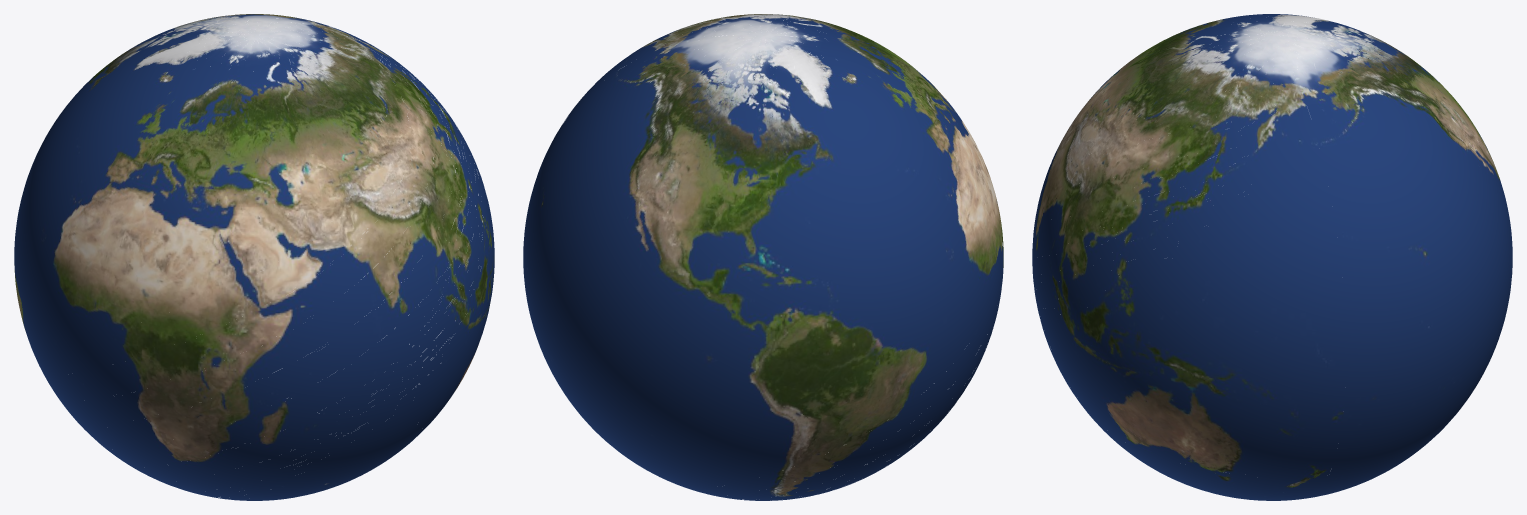
Rendered from earth-standard.glb.
The picture shows the model from 3 angles, left to right: view 1: azimuth 30°, elevation 25°; view 2: azimuth 150°, elevation 25°; view 3: azimuth 270°, elevation 25°; orthographic projection.
Parts seen in each view (by area): view 1: pSphere1_phong1_0 (×2); view 2: pSphere1_phong1_0 (×2); view 3: pSphere1_phong1_0 (×2).
Boxes of the visible parts, x1,y1,x2,y2 form: pSphere1_phong1_0 (×2): (14,14,494,500); pSphere1_phong1_0 (×2): (523,14,1003,500); pSphere1_phong1_0 (×2): (1032,14,1512,500).
Bounding box in the file's own units: 1.96 × 2 × 1.96.
Materials: 1 (1 with a texture image).
